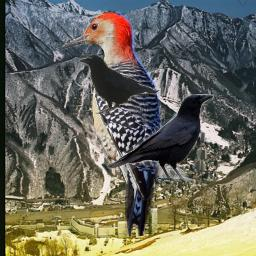Crow: (107, 94, 214, 182), (77, 53, 158, 114)
Woodpecker: (61, 10, 163, 236)
